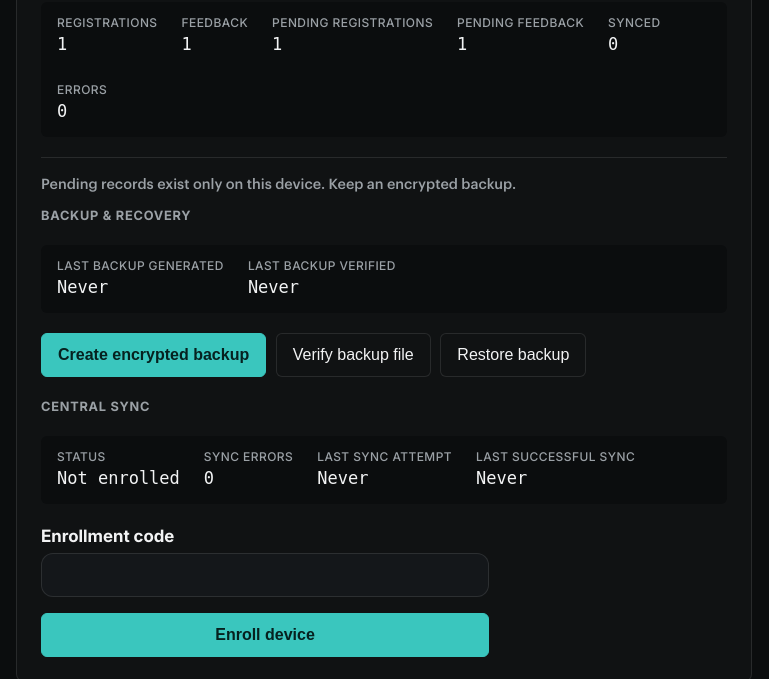
creating a backup › requires a long enough passphrase
(page scrolled)
Click the button "Create encrypted backup": (154, 355) [41, 333, 266, 377]
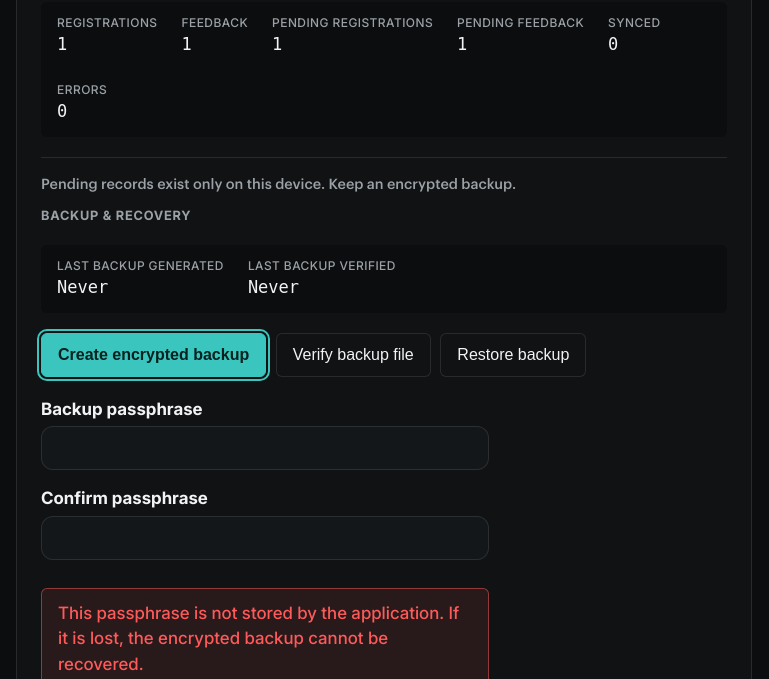
In the password field labelled "Backup passphrase": (265, 448) [41, 426, 489, 470], type "short"
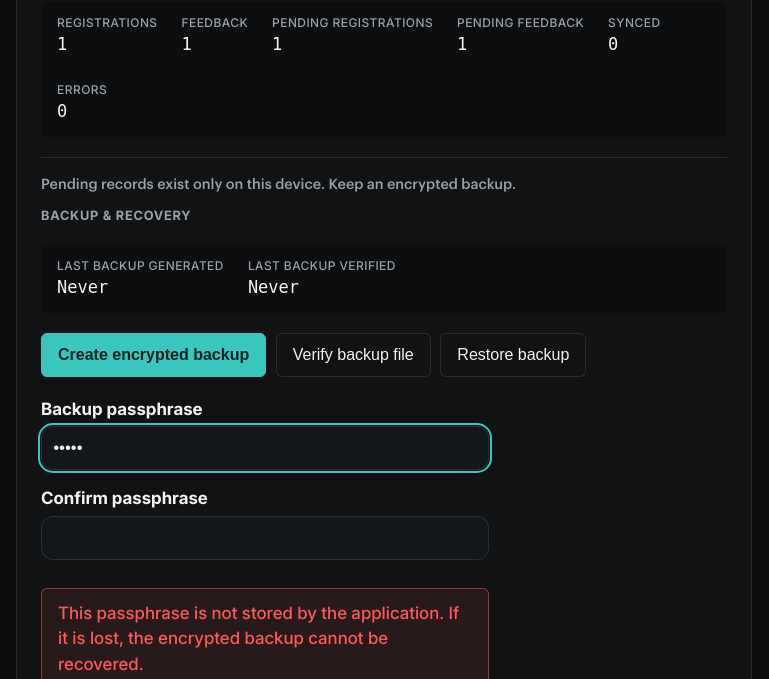
In the password field labelled "Confirm passphrase": (265, 538) [41, 516, 489, 560], type "short"
(page scrolled)
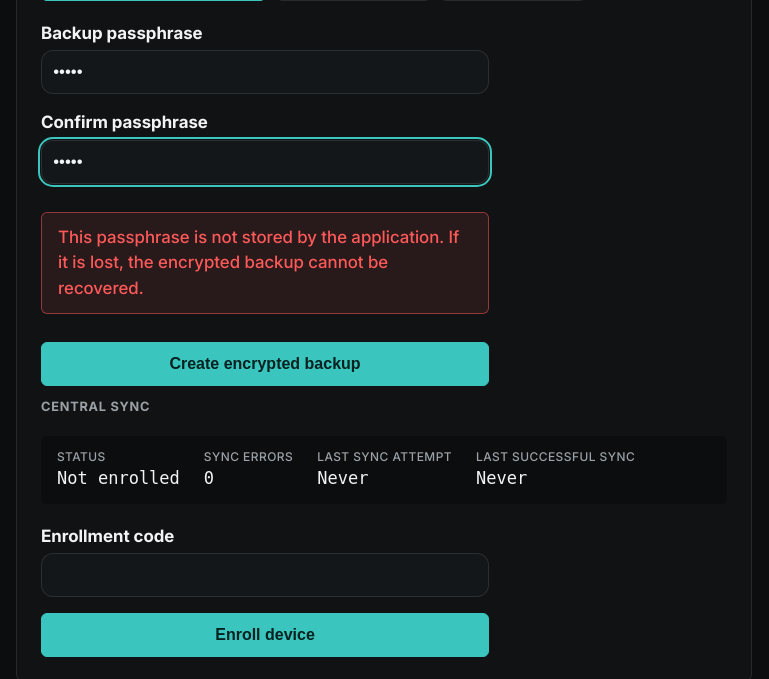
Click the button "Create encrypted backup" below "Confirm passphrase": (265, 364) [41, 342, 489, 386]
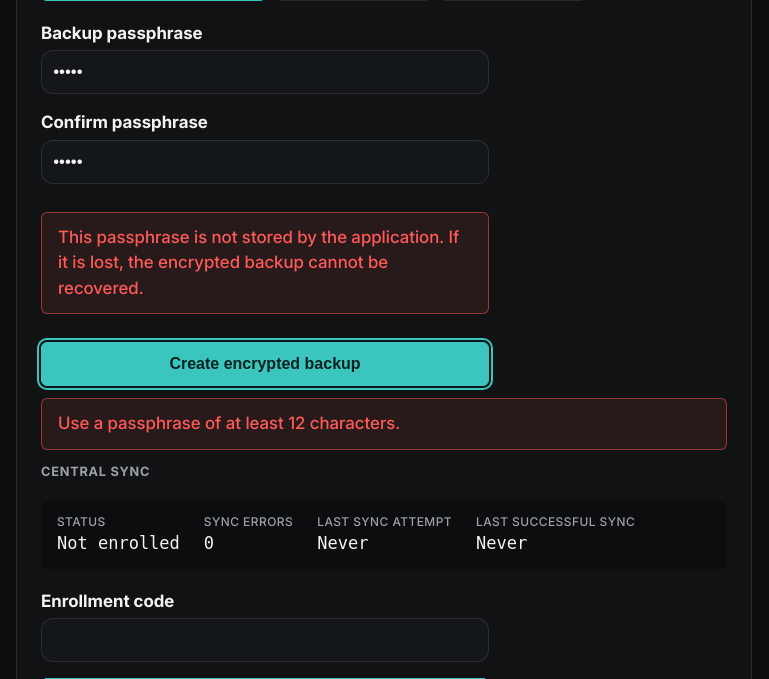
Expected: the message with test id "backup-message" shows "at least 12 characters", [58, 413, 400, 433]
